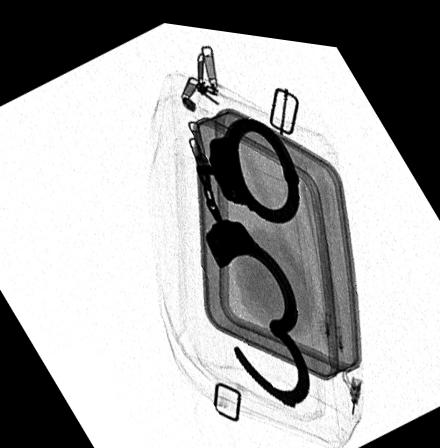HandCuffs: (195, 107, 308, 398)
